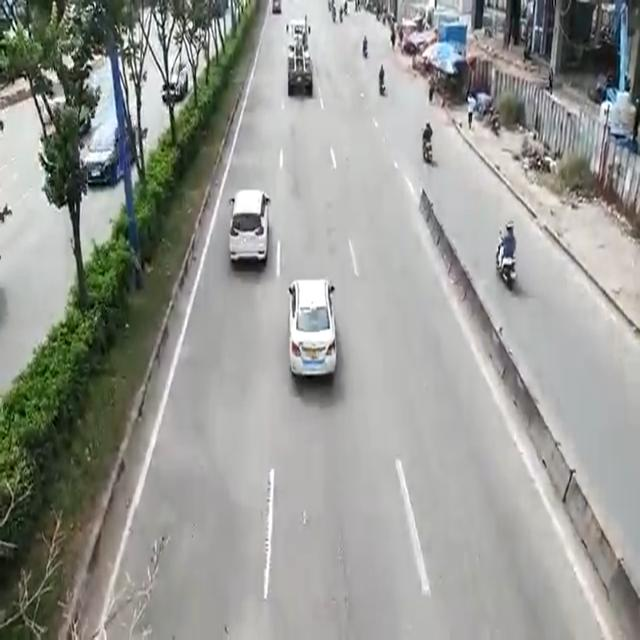car: (289, 276, 337, 392), (232, 184, 262, 268)
truck: (285, 24, 316, 91)
